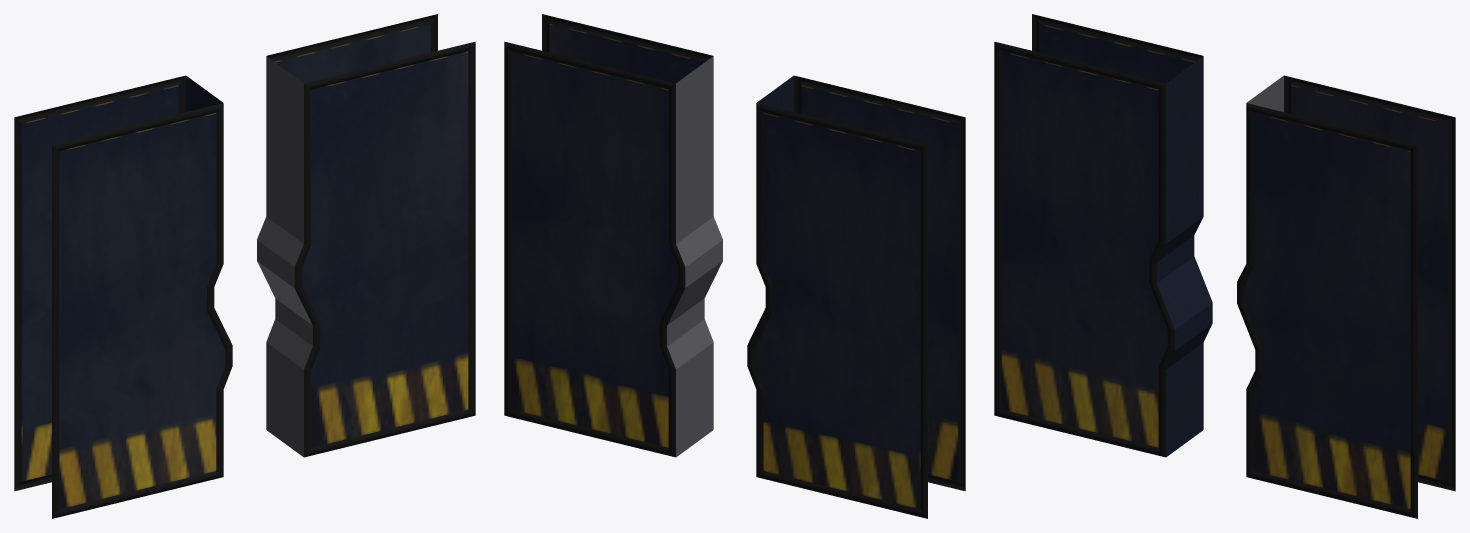
The model's file is door-normal_000003.obj.
The picture shows the model from 3 angles, left to right: view 1: azimuth 30°, elevation 25°; view 2: azimuth 150°, elevation 25°; view 3: azimuth 330°, elevation 25°; orthographic projection.
Visible parts, largest first — view 1: Door.Left_Cube.007, Door.Right_Cube.006; view 2: Door.Left_Cube.007, Door.Right_Cube.006; view 3: Door.Left_Cube.007, Door.Right_Cube.006.
Part boxes in pixels (bbox=[...]): Door.Left_Cube.007: bbox=[257, 14, 475, 457]; Door.Right_Cube.006: bbox=[14, 75, 232, 518]; Door.Left_Cube.007: bbox=[504, 14, 722, 457]; Door.Right_Cube.006: bbox=[747, 75, 965, 518]; Door.Left_Cube.007: bbox=[1237, 75, 1455, 518]; Door.Right_Cube.006: bbox=[994, 14, 1212, 457].
Size of the model in its own units: 6.23 by 5.26 by 0.9998.
6 materials, 6 textured.
